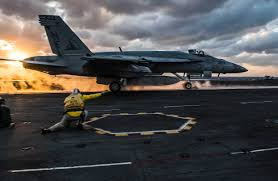fighter: (16, 11, 250, 95)
